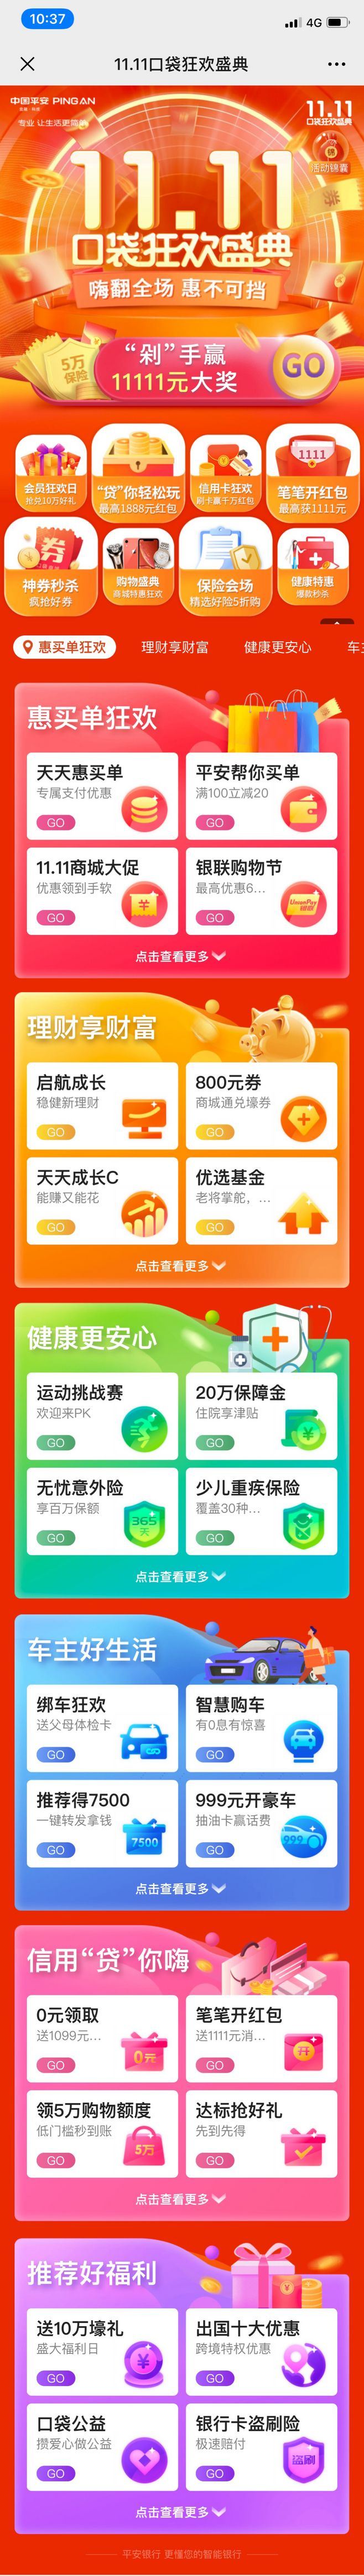floors: (0, 1301, 364, 1602), (0, 1612, 364, 1912), (0, 1924, 364, 2224), (0, 2236, 364, 2537), (0, 680, 364, 979), (0, 989, 364, 1288), (0, 421, 364, 618)
toutu: (0, 85, 364, 407)
